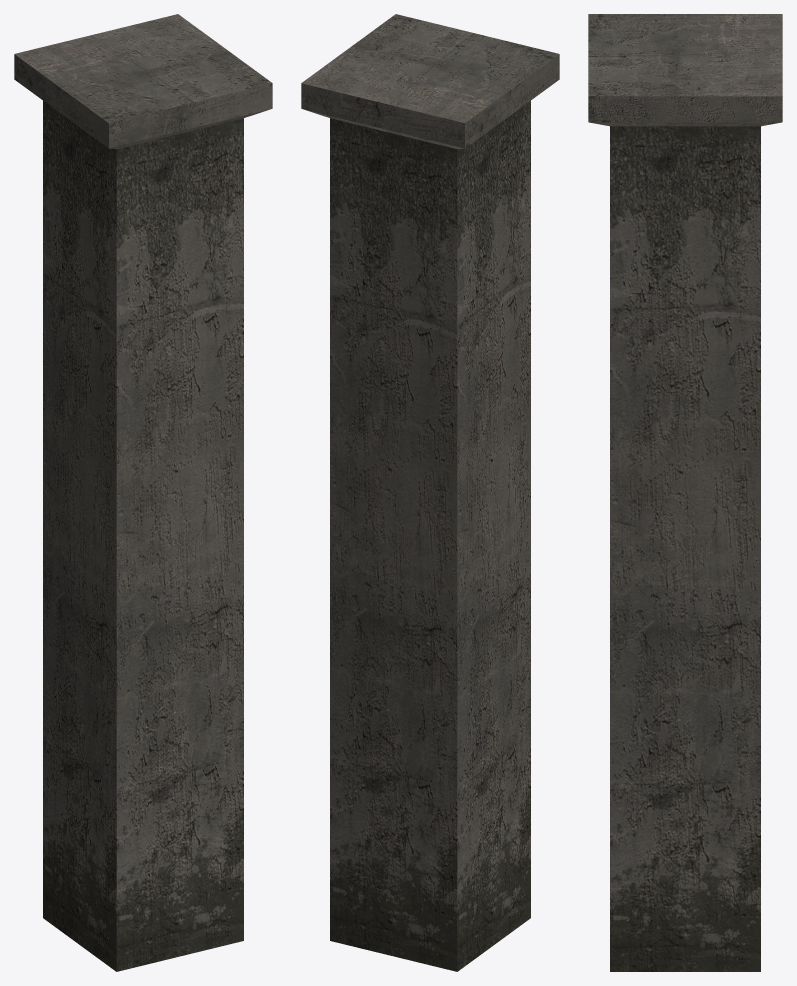
Rendered from backWallColumnMedium.FBX.
The picture shows the model from 3 angles, left to right: view 1: azimuth 30°, elevation 25°; view 2: azimuth 150°, elevation 25°; view 3: azimuth 270°, elevation 25°; orthographic projection. The views are drawn at different scales.
Parts seen in each view (by area): view 1: backWallColumnMedium; view 2: backWallColumnMedium; view 3: backWallColumnMedium.
Part boxes in pixels (x1,y1,x2,y2): backWallColumnMedium: (14,14,272,971); backWallColumnMedium: (301,14,559,971); backWallColumnMedium: (588,14,782,971).
Bounding box in the file's own units: 193 × 969 × 193.
1 material, 1 textured.
